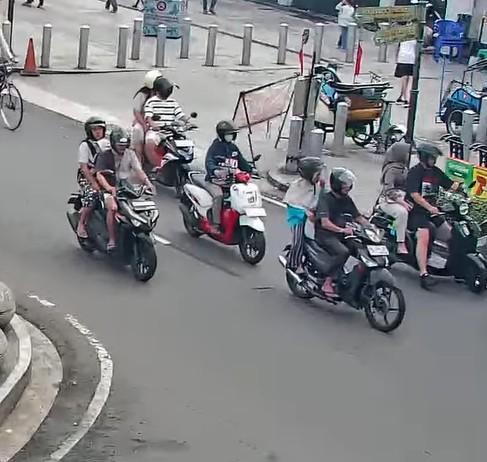Helmet: (297, 156, 324, 182), (330, 167, 355, 194), (110, 126, 129, 153), (416, 143, 441, 163), (84, 116, 105, 139), (216, 120, 237, 140), (154, 77, 173, 98), (144, 70, 161, 89)
Number Plate: (367, 245, 388, 256), (245, 207, 265, 216), (174, 139, 193, 147), (477, 236, 486, 247)
Rearview Mirror: (253, 154, 261, 161), (190, 112, 198, 119)
